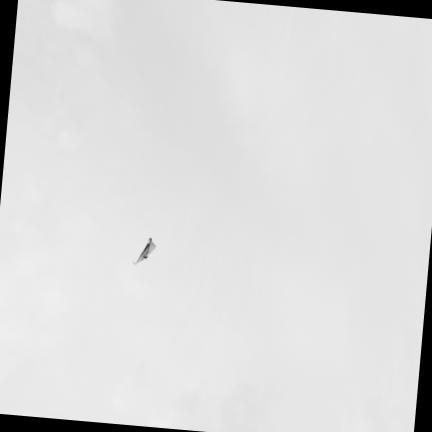Shahed: (133, 237, 155, 263)
